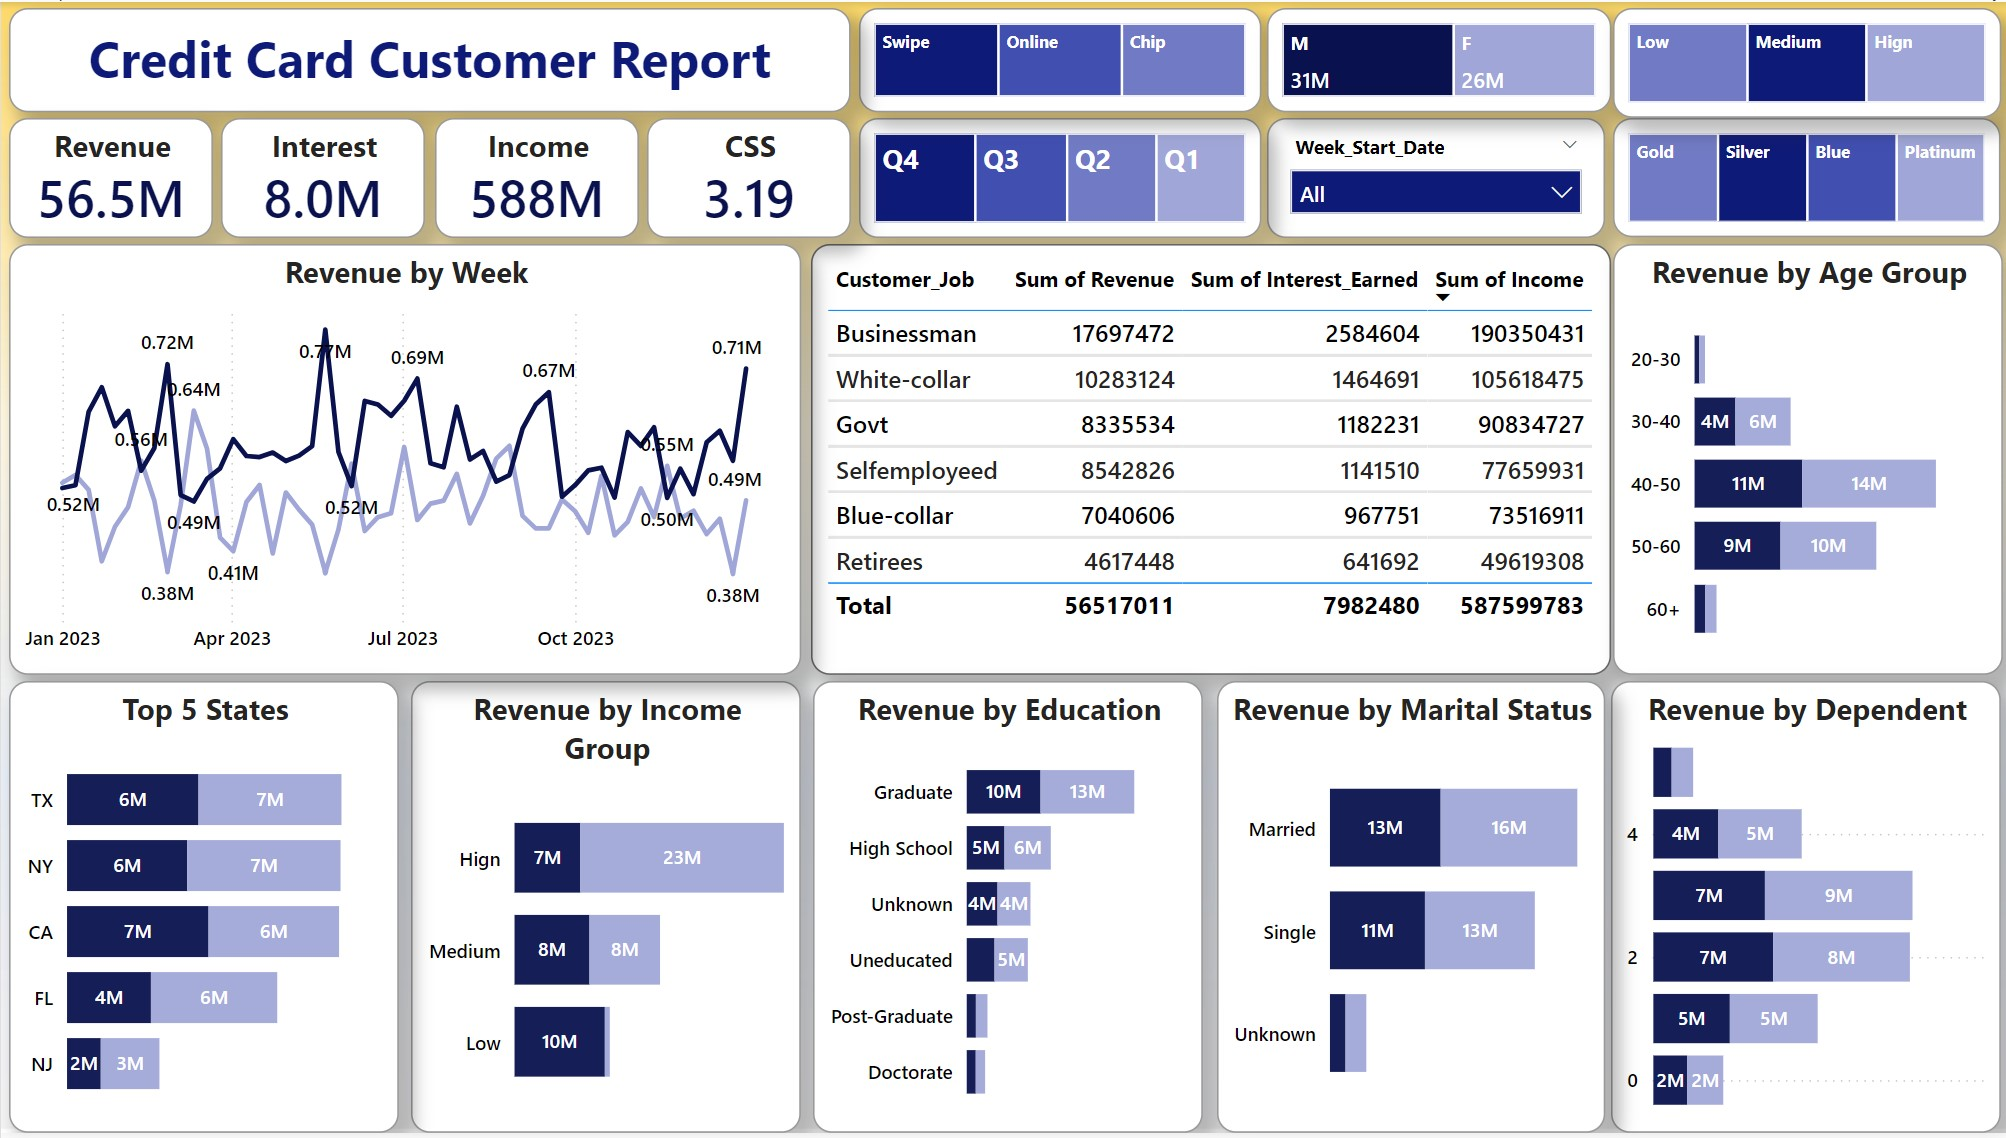

This screenshot's page, from the dashboard's own definition file:
{"tool":"powerbi","page":{"name":"CC Customer","canvas":[1280,720],"ordinal":2},"visuals":[{"type":"slicer","fields":{"Values":["ccdb credit_card.Week_Start_Date"]},"box":[807,73.9,215.5,76.5],"z":0},{"type":"treemap","fields":{"Group":["ccdb credit_card.Qtr"],"Values":["Avg(ccdb credit_card.Client_Num)"]},"box":[546.9,73.9,256.3,76.5],"z":1000},{"type":"treemap","fields":{"Values":["Avg(ccdb credit_card.Client_Num)"],"Group":["ccdb credit_card.Card_Category"]},"box":[1027.1,73.9,246.8,76.2],"z":2000},{"type":"treemap","fields":{"Values":["Avg(ccdb credit_card.Client_Num)"],"Group":["ccdb credit_card.Use Chip"]},"box":[546.9,3.8,256.3,66.3],"z":3000},{"type":"textbox","box":[5.1,3.8,536.7,66.3],"z":4000},{"type":"barChart","title":"Revenue by Income Group","fields":{"Y":["Sum(ccdb credit_card.Revenue)"],"Category":["ccdb customer.IncomeGroup"],"Series":["ccdb customer.Gender"]},"box":[261.4,431.9,248.6,288.1],"z":5000},{"type":"tableEx","fields":{"Values":["ccdb customer.Customer_Job","Sum(ccdb credit_card.Revenue)","Sum(ccdb credit_card.Interest_Earned)","Sum(ccdb customer.Income)"]},"box":[516.3,154.3,510,274.1],"z":6000},{"type":"card","title":"Revenue","fields":{"Values":["Sum(ccdb credit_card.Revenue)"]},"box":[5.1,73.9,130,76.5],"z":7000},{"type":"card","title":"Interest","fields":{"Values":["Sum(ccdb credit_card.Interest_Earned)"]},"box":[140.2,73.9,130,76.5],"z":8000},{"type":"card","title":"Income","fields":{"Values":["Sum(ccdb customer.Income)"]},"box":[276.7,73.9,130,76.5],"z":9000},{"type":"card","title":"CSS","fields":{"Values":["Avg(ccdb customer.Cust_Satisfaction_Score)"]},"box":[411.8,73.9,130,76.5],"z":10000},{"type":"lineChart","title":"Revenue by Week","fields":{"Y":["Sum(ccdb credit_card.Revenue)"],"Series":["ccdb customer.Gender"],"Category":["ccdb credit_card.Week_Start_Date.Variation.Date Hierarchy.Year","ccdb credit_card.Week_Start_Date.Variation.Date Hierarchy.Month","ccdb credit_card.Week_Start_Date.Variation.Date Hierarchy.Day"]},"box":[5.1,154.3,504.9,274.1],"z":11000},{"type":"treemap","fields":{"Group":["ccdb customer.Gender"],"Values":["Sum(ccdb credit_card.Revenue)"]},"box":[807,3.8,219.3,66.3],"z":12000},{"type":"barChart","title":"Revenue by Age Group","fields":{"Y":["Sum(ccdb credit_card.Revenue)"],"Category":["ccdb customer.AgeGroup"],"Series":["ccdb customer.Gender"]},"box":[1027.6,154.3,248.6,274.1],"z":13000},{"type":"barChart","title":"Revenue by Dependent","fields":{"Y":["Sum(ccdb credit_card.Revenue)"],"Category":["ccdb customer.Dependent_Count"],"Series":["ccdb customer.Gender"]},"box":[1026.3,431.9,248.6,288.1],"z":14000},{"type":"barChart","title":"Revenue by Education","fields":{"Y":["Sum(ccdb credit_card.Revenue)"],"Category":["ccdb customer.Education_Level"],"Series":["ccdb customer.Gender"]},"box":[517.6,431.9,248.6,288.1],"z":15000},{"type":"barChart","title":"Top 5 States","fields":{"Y":["Sum(ccdb credit_card.Revenue)"],"Category":["ccdb customer.state_cd"],"Series":["ccdb customer.Gender"]},"box":[5.1,431.9,248.6,288.1],"z":16000},{"type":"barChart","title":"Revenue by Marital Status","fields":{"Y":["Sum(ccdb credit_card.Revenue)"],"Category":["ccdb customer.Marital_Status"],"Series":["ccdb customer.Gender"]},"box":[775.1,431.9,247.3,288.1],"z":17000},{"type":"treemap","fields":{"Values":["Avg(ccdb credit_card.Client_Num)"],"Group":["ccdb customer.IncomeGroup"]},"box":[1027.6,3.8,247.3,70.1],"z":17001}]}

Visuals, with their boxes in screenshot pixels (x1, y1, x2, y2), scaled from the page's 1280x720 canvas onto the 2006x1138 screenshot:
slicer - ccdb credit_card.Week_Start_Date: bbox(1265, 117, 1602, 238)
treemap - ccdb credit_card.Qtr x Avg(ccdb credit_card.Client_Num): bbox(857, 117, 1259, 238)
treemap - Avg(ccdb credit_card.Client_Num) x ccdb credit_card.Card_Category: bbox(1610, 117, 1996, 237)
treemap - Avg(ccdb credit_card.Client_Num) x ccdb credit_card.Use Chip: bbox(857, 6, 1259, 111)
textbox: bbox(8, 6, 849, 111)
"Revenue by Income Group" barChart: bbox(410, 683, 799, 1137)
tableEx - ccdb customer.Customer_Job x Sum(ccdb credit_card.Revenue): bbox(809, 244, 1608, 677)
"Revenue" card: bbox(8, 117, 212, 238)
"Interest" card: bbox(220, 117, 423, 238)
"Income" card: bbox(434, 117, 637, 238)
"CSS" card: bbox(645, 117, 849, 238)
"Revenue by Week" lineChart: bbox(8, 244, 799, 677)
treemap - ccdb customer.Gender x Sum(ccdb credit_card.Revenue): bbox(1265, 6, 1608, 111)
"Revenue by Age Group" barChart: bbox(1610, 244, 2000, 677)
"Revenue by Dependent" barChart: bbox(1608, 683, 1998, 1137)
"Revenue by Education" barChart: bbox(811, 683, 1201, 1137)
"Top 5 States" barChart: bbox(8, 683, 398, 1137)
"Revenue by Marital Status" barChart: bbox(1215, 683, 1602, 1137)
treemap - Avg(ccdb credit_card.Client_Num) x ccdb customer.IncomeGroup: bbox(1610, 6, 1998, 117)
